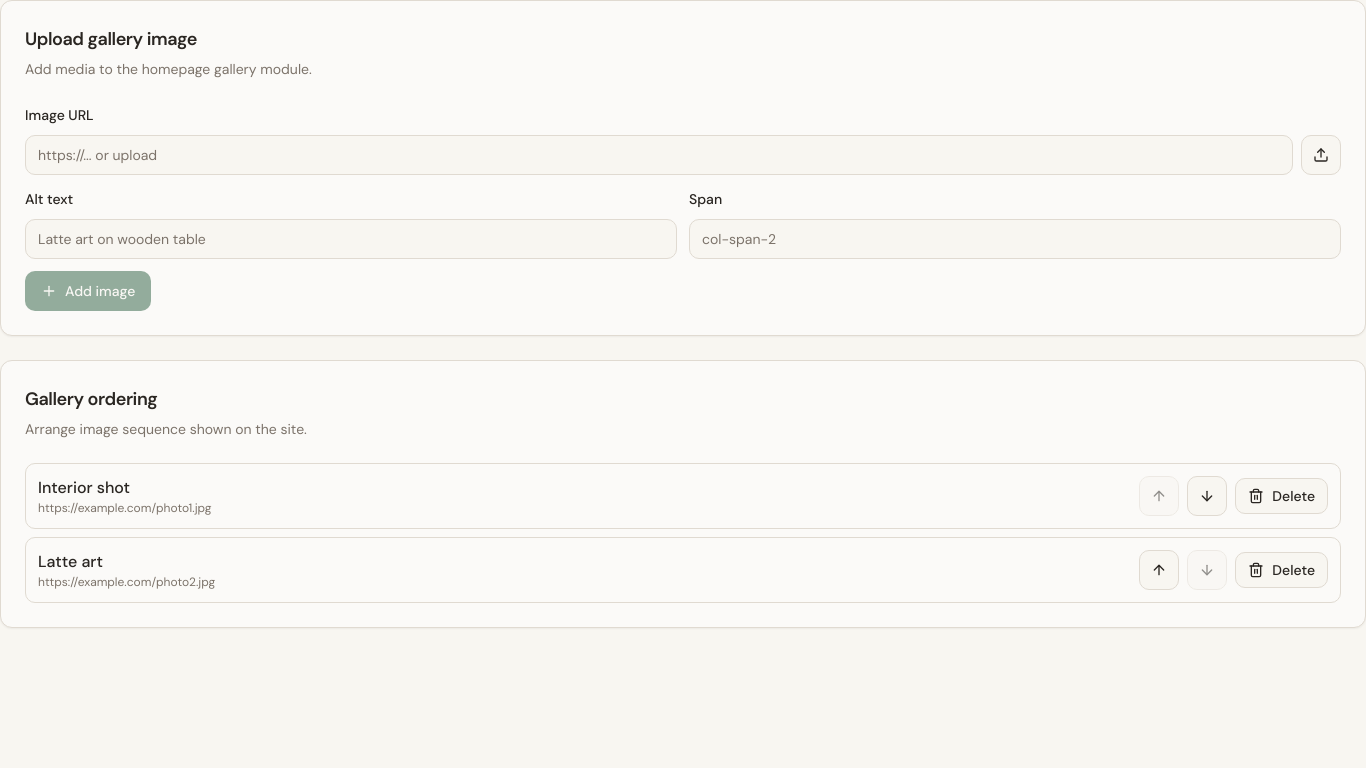
Test: AdminGalleryPage › enables add button when URL is provided
Type "https://example.com/photo.jpg" into the field labelled "Image URL". click: (659, 155)
box: [25,135,1293,175]
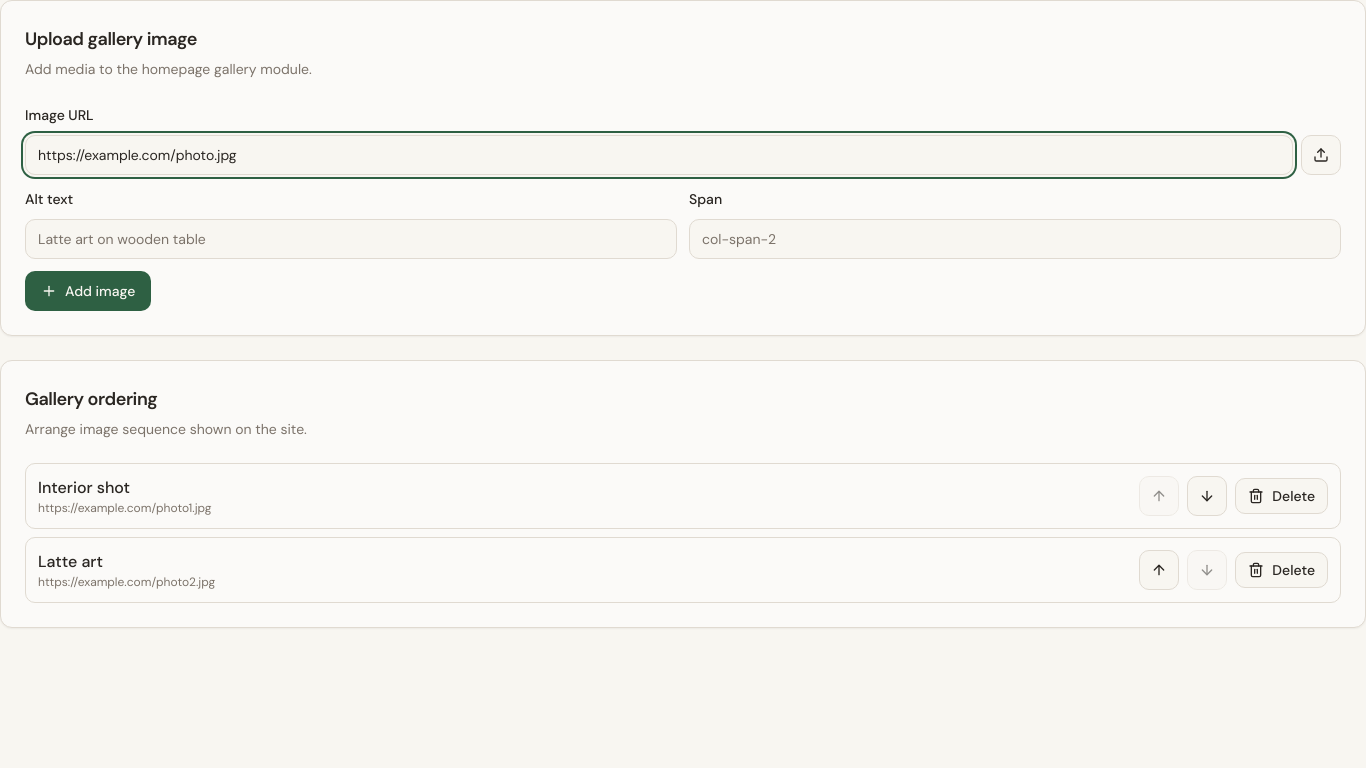
Result: the button "Add image" is enabled at [25,271,151,311]
